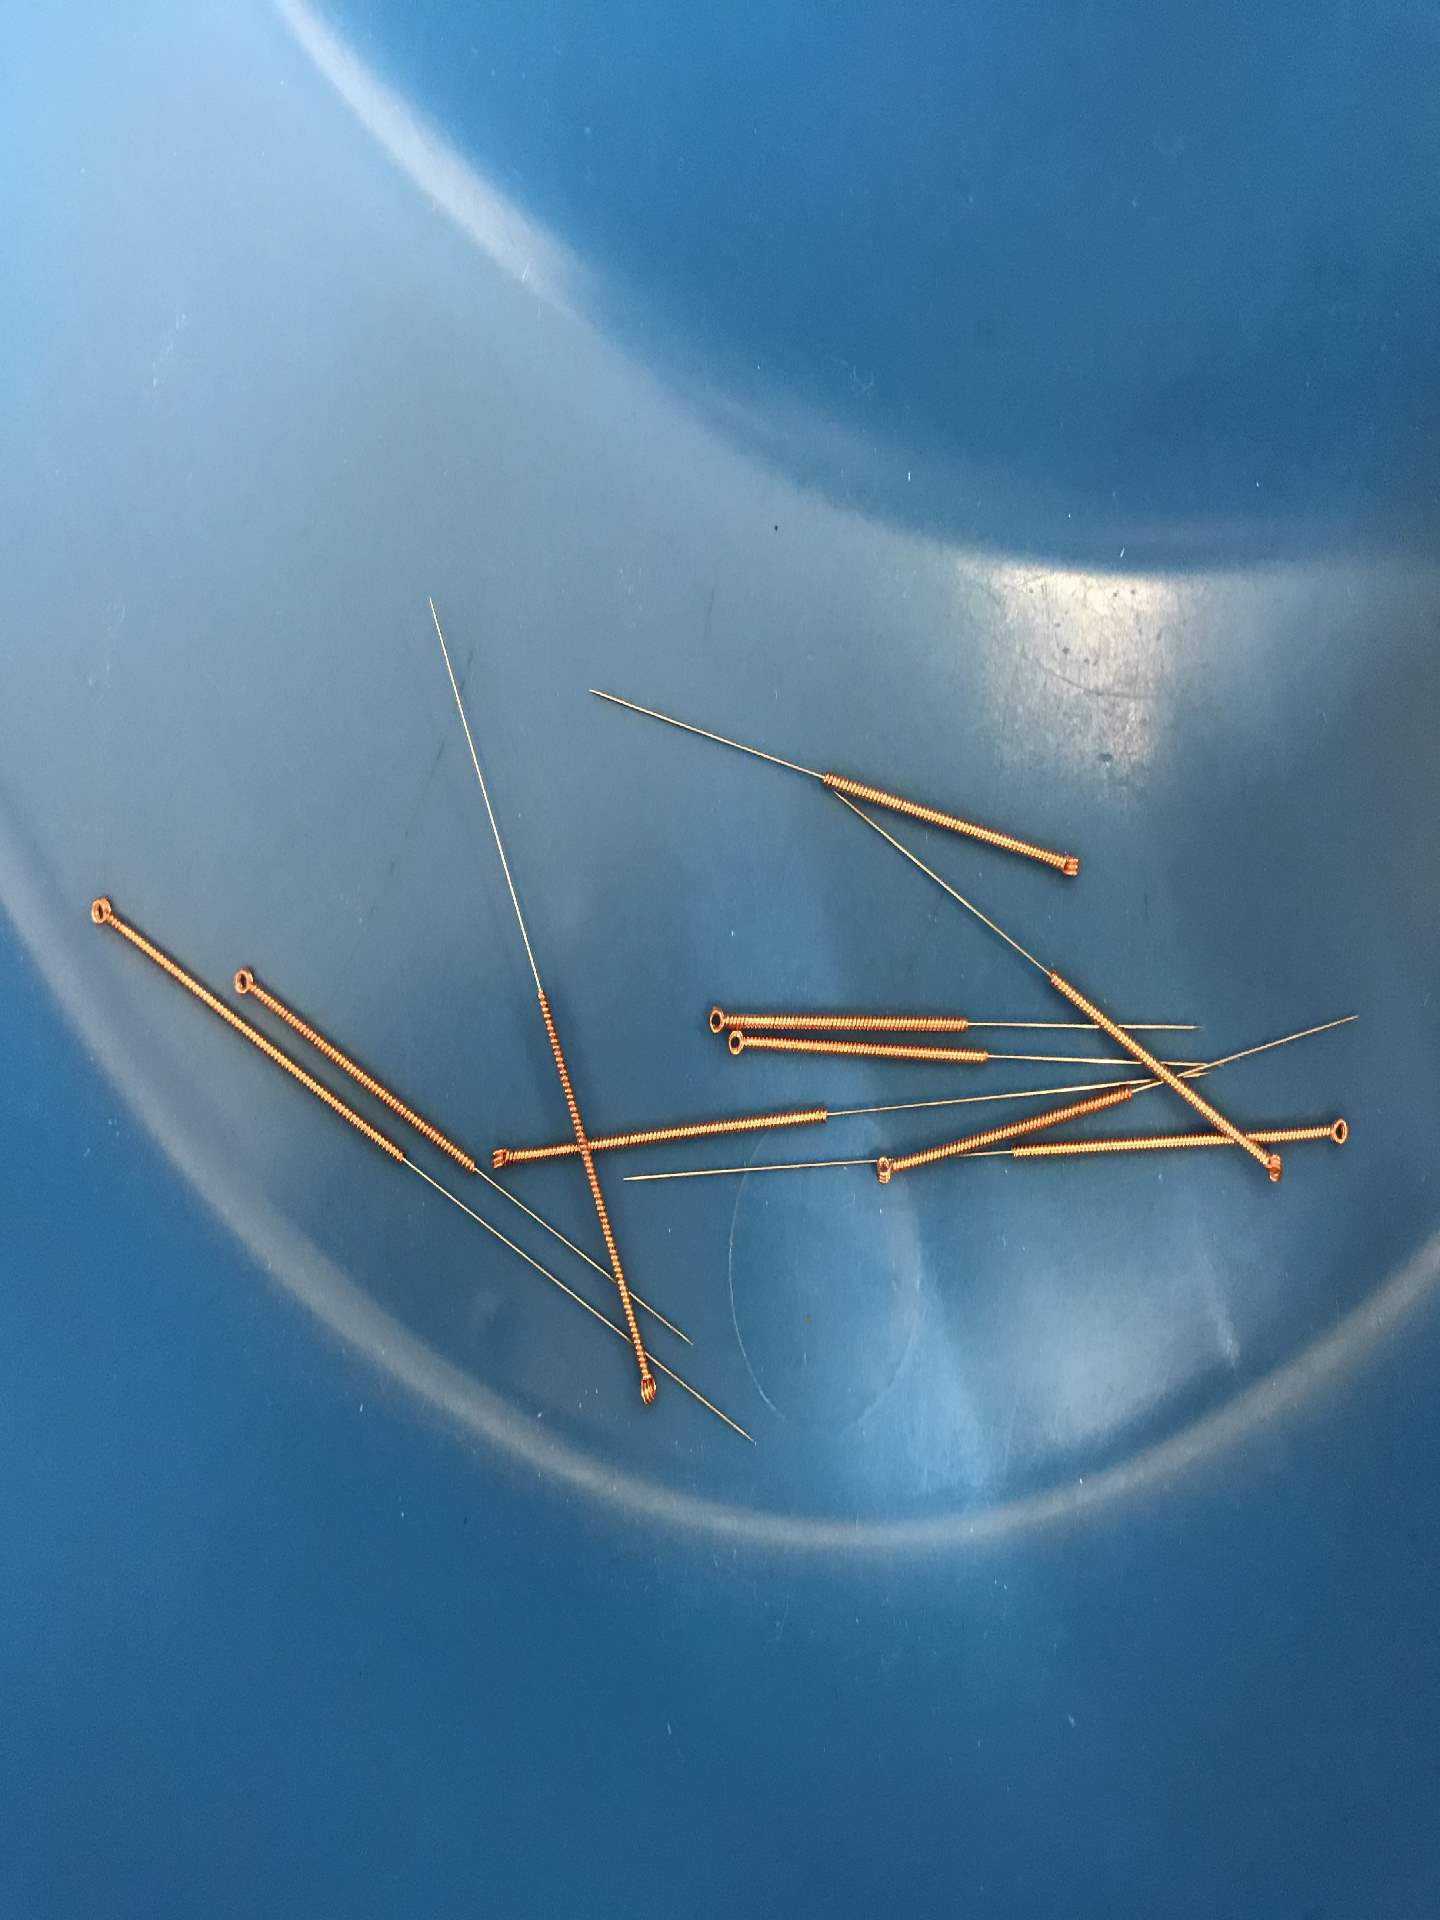needle: (628, 1362, 666, 1414), (82, 889, 123, 936), (225, 962, 265, 1005), (1051, 844, 1088, 887), (1319, 1110, 1355, 1154), (1255, 1144, 1289, 1191), (870, 1149, 905, 1191), (484, 1138, 520, 1178), (700, 1001, 731, 1039), (725, 1025, 753, 1061)
